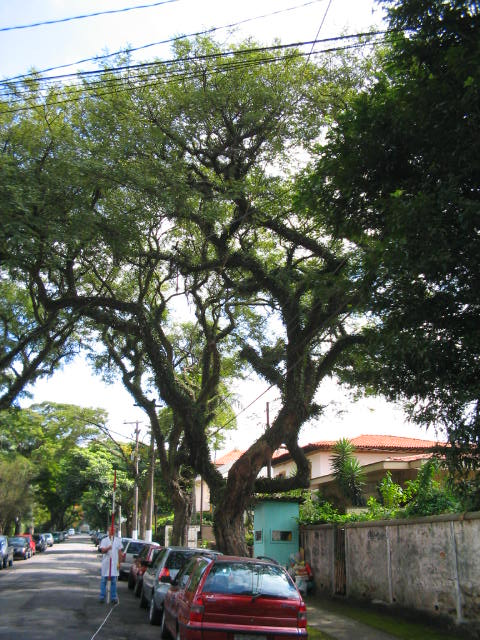crown: (3, 24, 383, 372)
stem: (201, 495, 266, 606)
stick: (100, 468, 125, 603)
tree: (3, 22, 385, 607)
